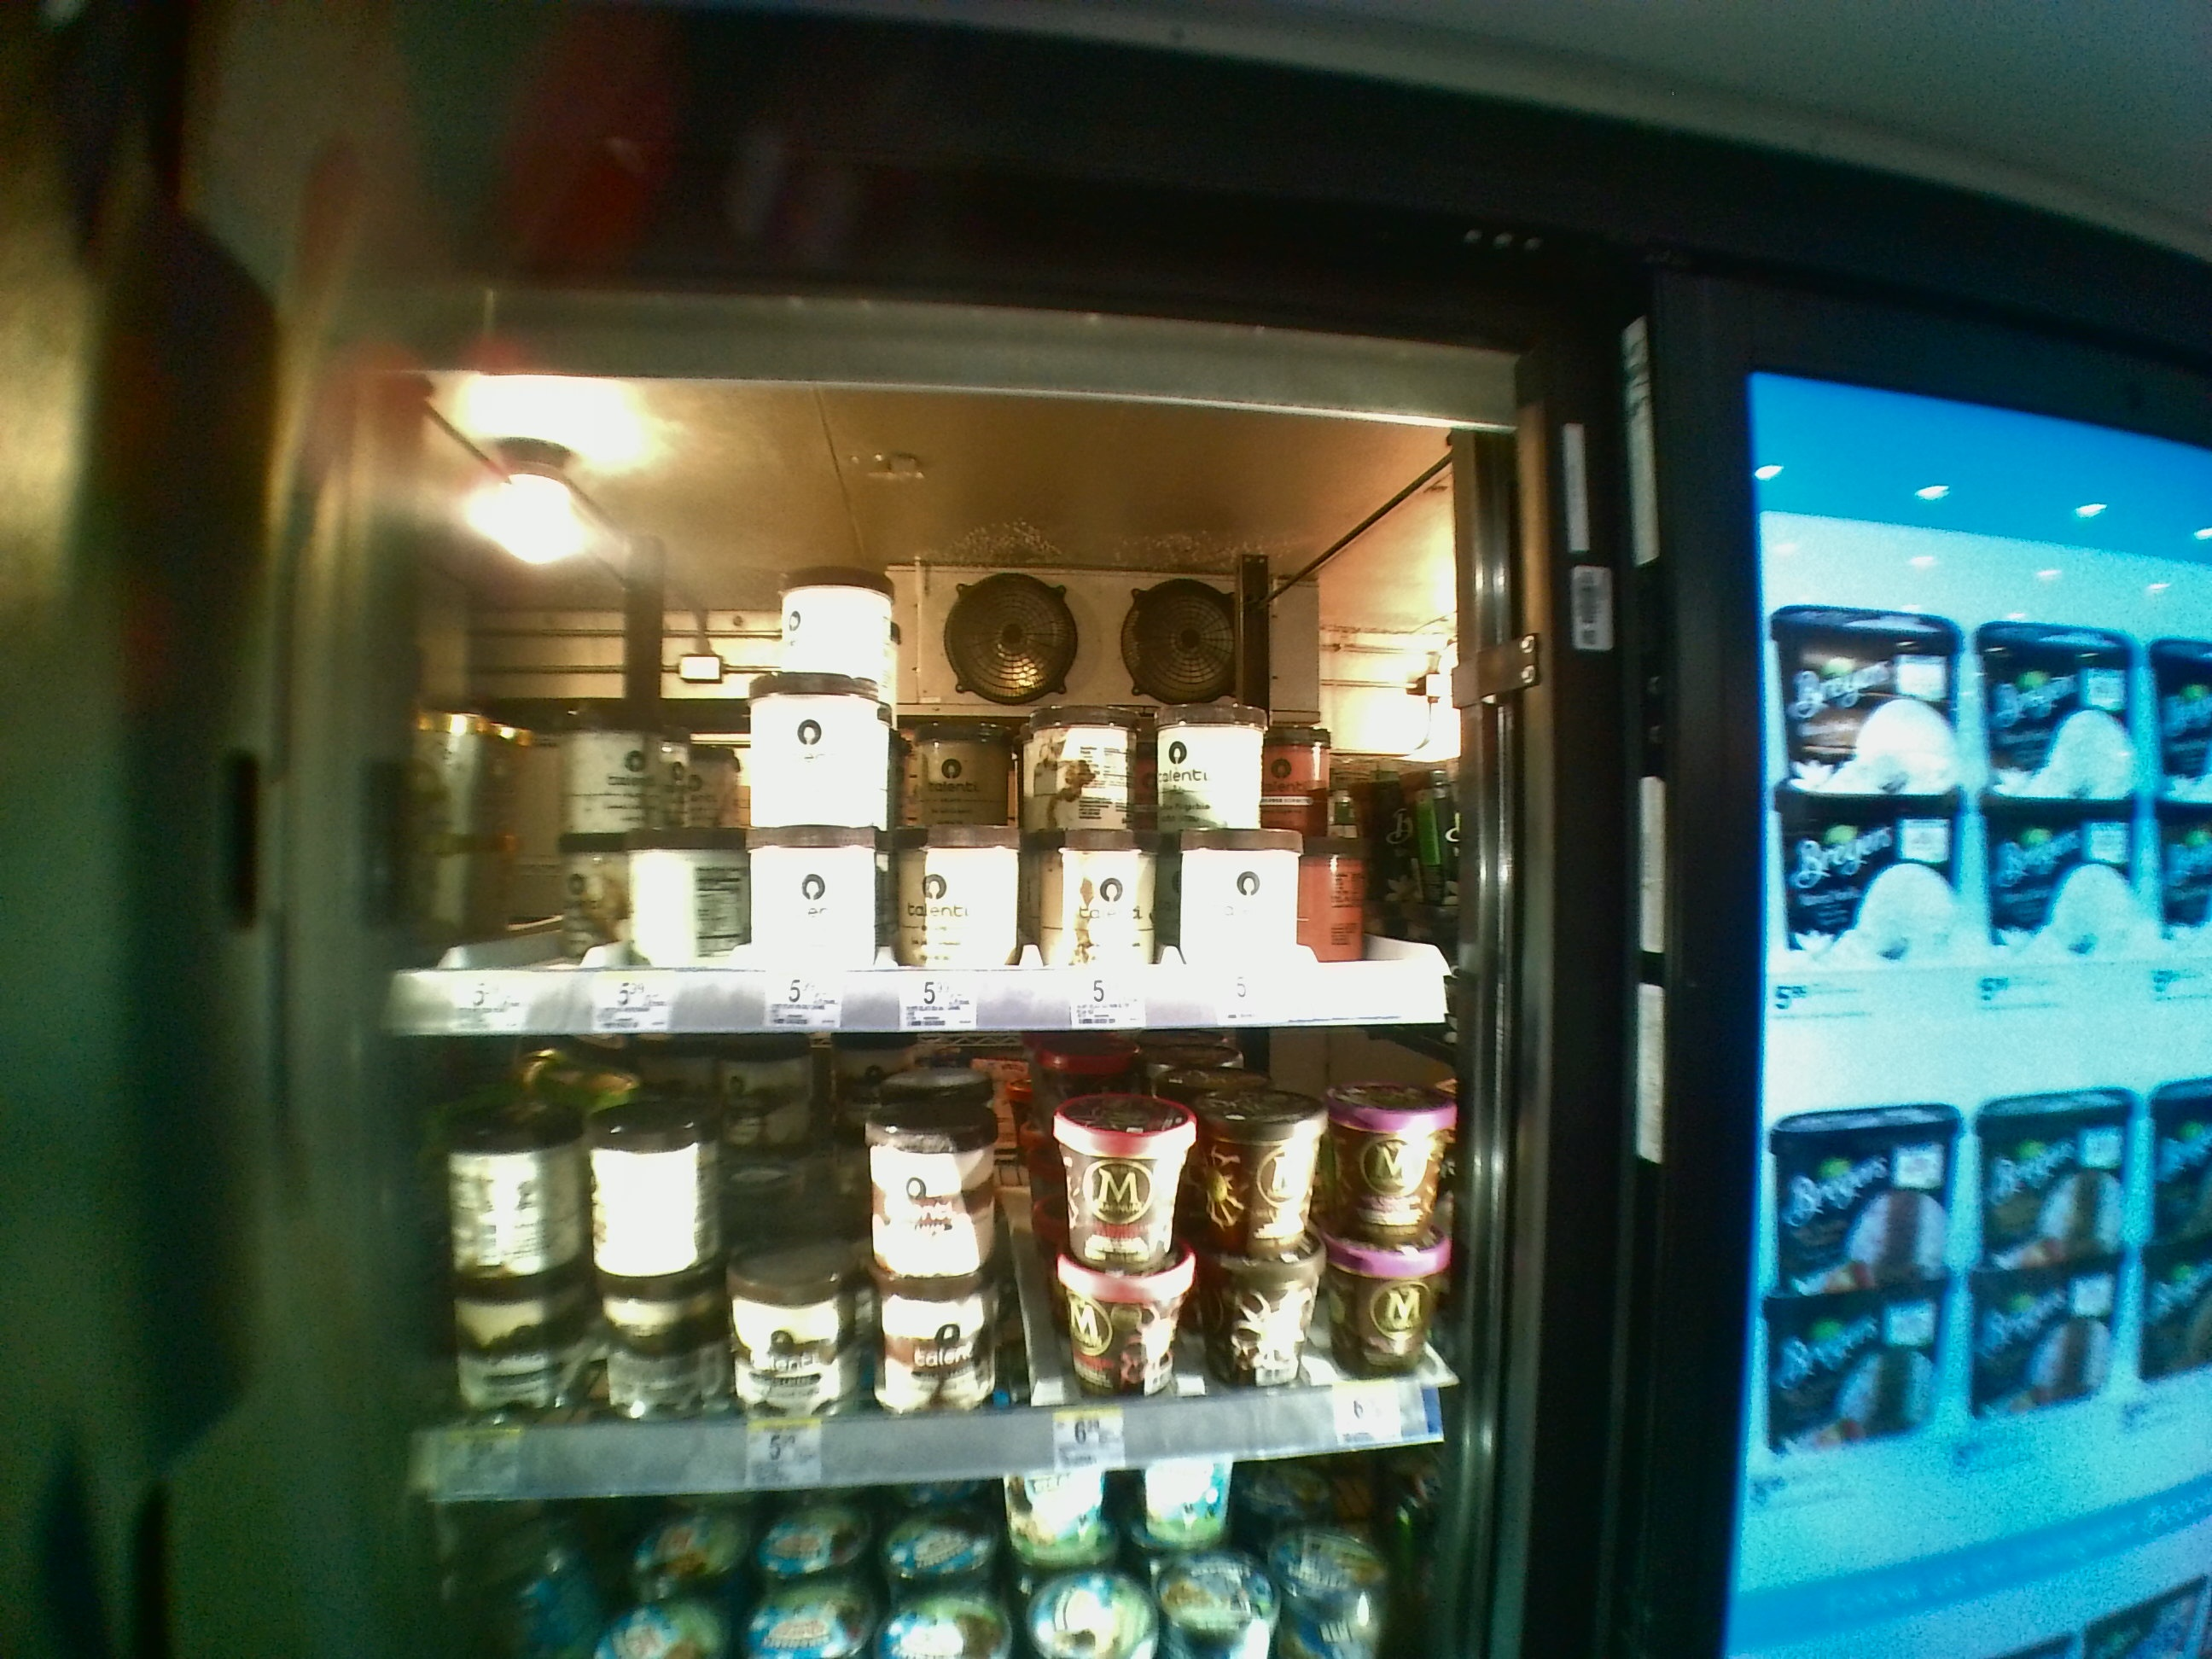shelf: (371, 401, 1463, 1035), (383, 1047, 1465, 1507)
